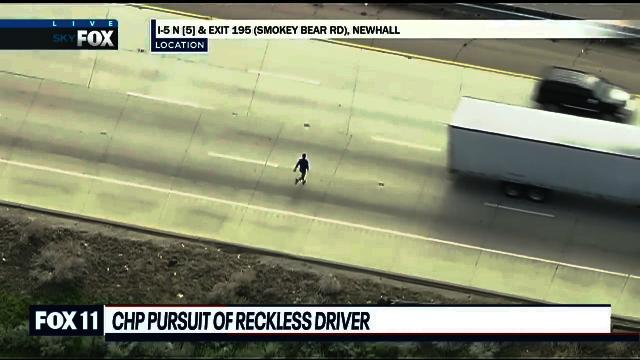berlari: (294, 151, 310, 190)
